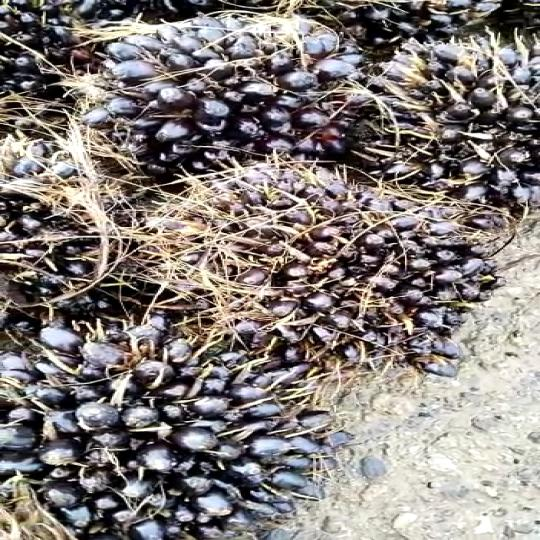mentah: (139, 151, 473, 388), (0, 316, 322, 539), (81, 6, 373, 176), (0, 129, 189, 329), (336, 33, 538, 219)
